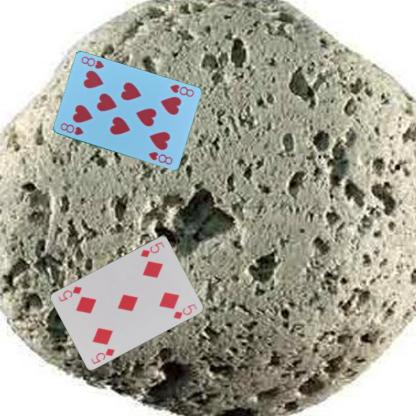5d: (138, 239, 166, 258), (89, 346, 116, 365)
8h: (167, 82, 195, 98), (58, 121, 84, 136)
